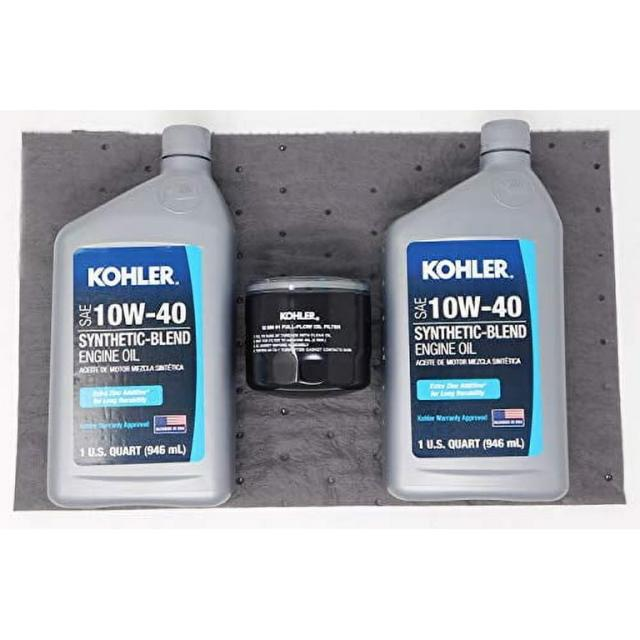motor_oil: (46, 122, 238, 509), (386, 118, 568, 502)
oil_filter: (247, 276, 373, 392)
